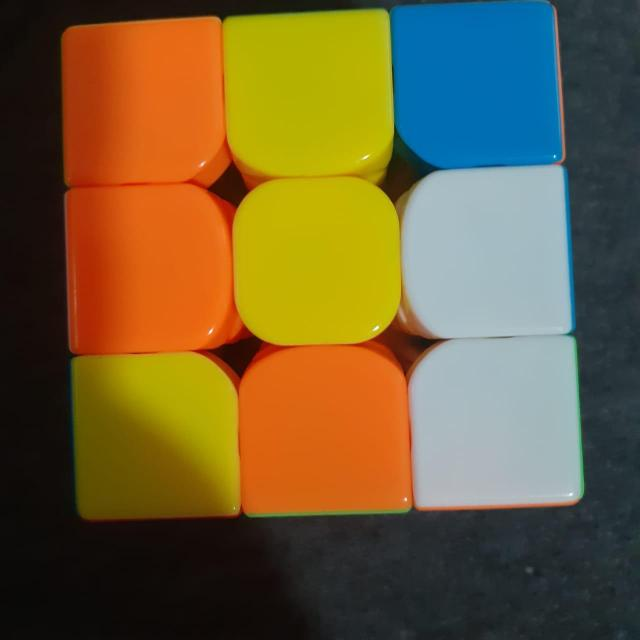Blue: (404, 6, 560, 160)
Orange: (62, 184, 226, 348), (244, 350, 408, 508), (60, 25, 220, 177)
White: (412, 346, 578, 502), (412, 172, 572, 332)
Yellow: (74, 360, 238, 520), (234, 182, 396, 341), (229, 22, 391, 165)
